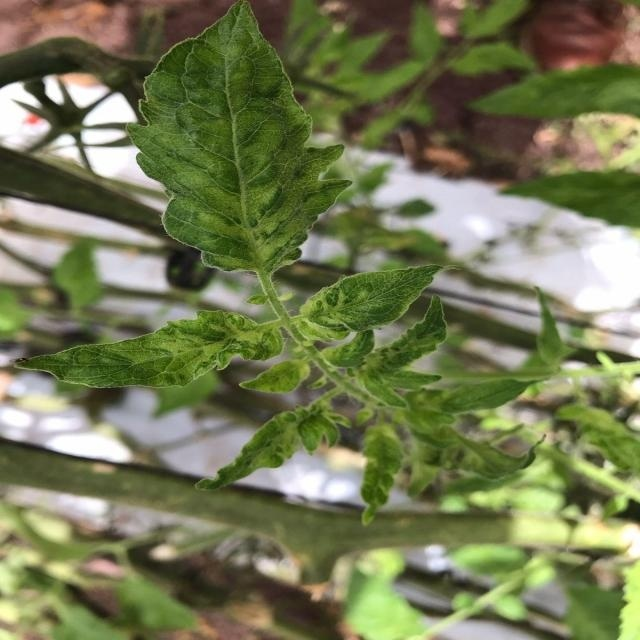T_L_R: (129, 4, 348, 277), (21, 312, 284, 389), (199, 400, 349, 491), (356, 299, 448, 406), (301, 266, 443, 332), (361, 425, 404, 525), (241, 361, 311, 394), (323, 331, 376, 369)
T_S_R: (257, 272, 333, 371)
